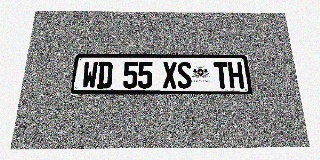5: (123, 62, 138, 88), (138, 62, 152, 88)
D: (96, 62, 113, 88)
H: (228, 62, 244, 88)
S: (177, 62, 192, 88)
T: (213, 62, 230, 88)
W: (81, 61, 98, 88)
X: (163, 62, 177, 88)
